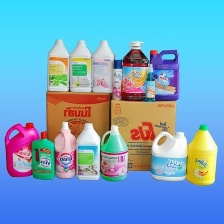aerosol_cans: (110, 58, 124, 103)
book: (42, 85, 115, 174), (105, 94, 179, 176)
cleaning_solution: (147, 128, 191, 182), (3, 120, 42, 179), (184, 122, 219, 187), (119, 39, 152, 103), (147, 46, 183, 103), (97, 123, 130, 182), (74, 122, 104, 182), (52, 119, 78, 181), (29, 128, 58, 181), (89, 36, 115, 94), (68, 38, 94, 93), (46, 37, 71, 93), (142, 61, 159, 104)
